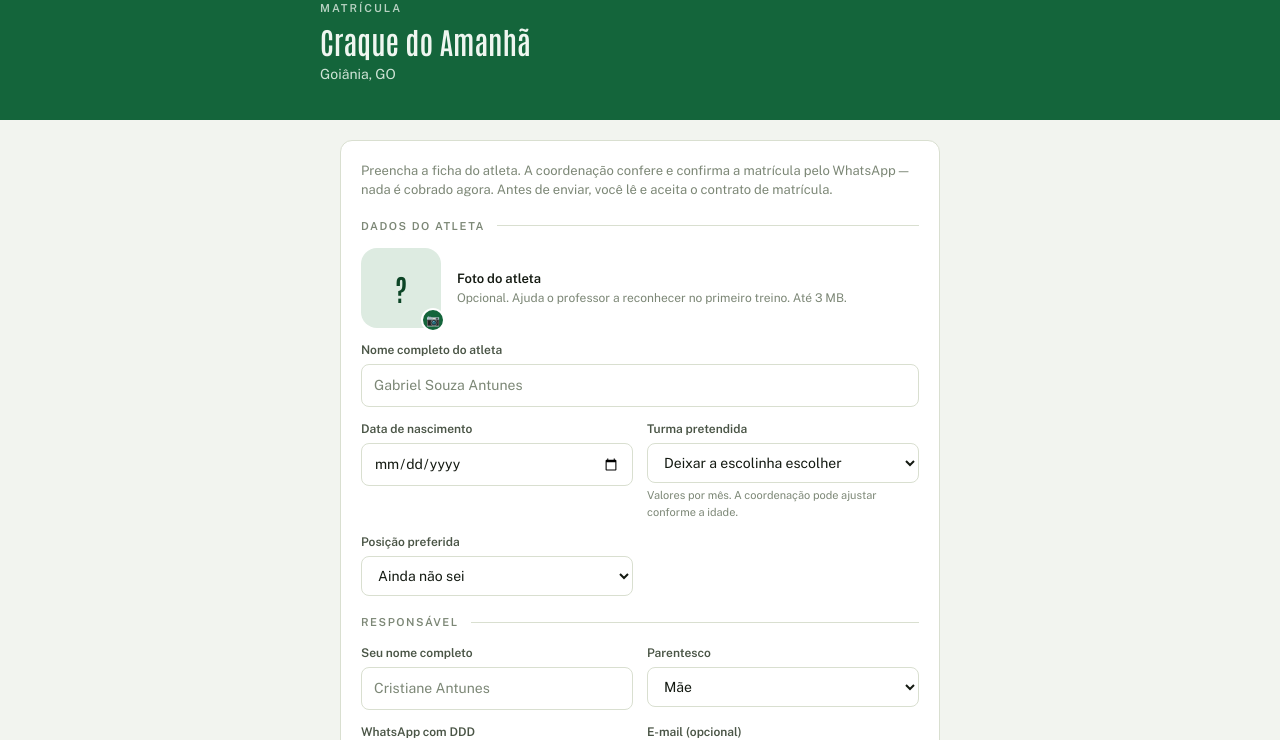
matrícula pública › com contrato, CPF inválido nem abre o texto
The width and height of the screenshot is (1280, 740).
Type "Gabriel Souza" into the field labelled "Nome completo do atleta". click: (640, 386)
box: [361,364,919,407]
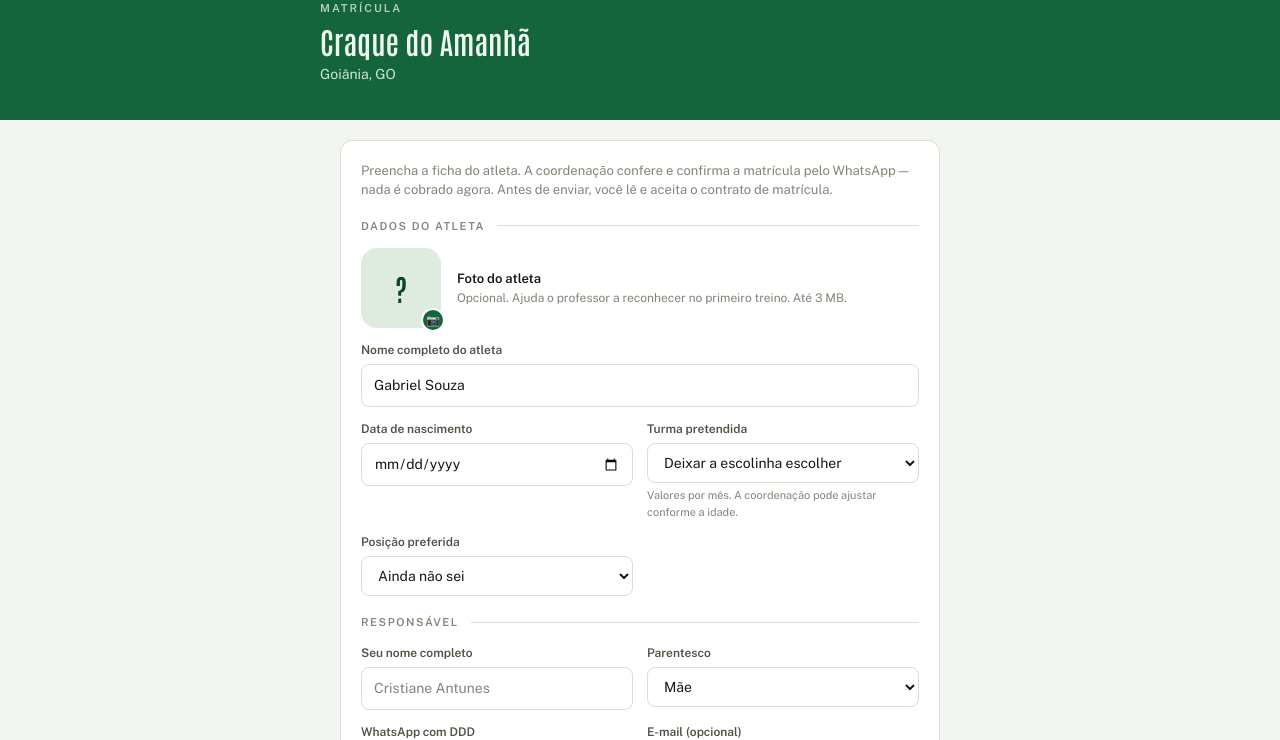
Type "Cristiane Souza" into the field labelled "Seu nome completo". click: (497, 688)
box: [361,666,633,710]
(page scrolled)
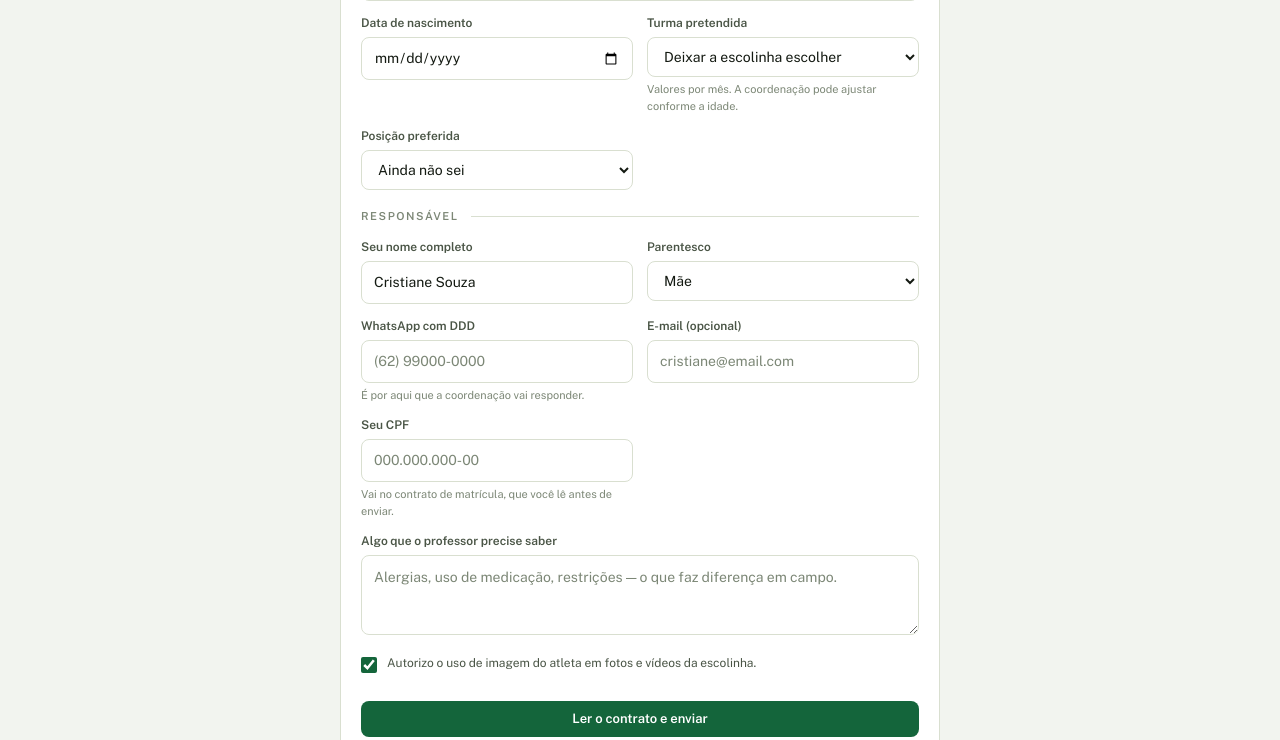
Type "62990001122" into the field labelled "WhatsApp com DDD É por aqui que a coordenação vai responder.". click: (497, 361)
box: [361,340,633,382]
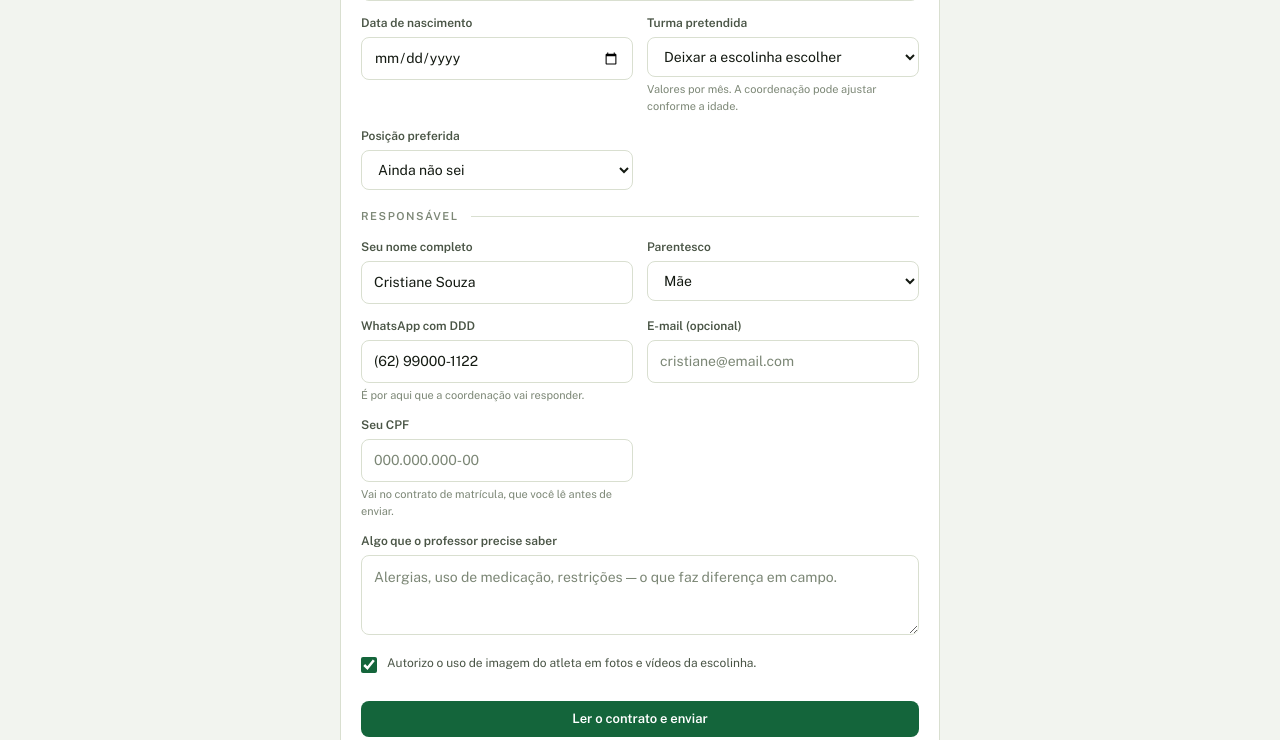
Type "111.111.111-11" into the field labelled "Seu CPF". click: (497, 460)
box: [361,439,633,482]
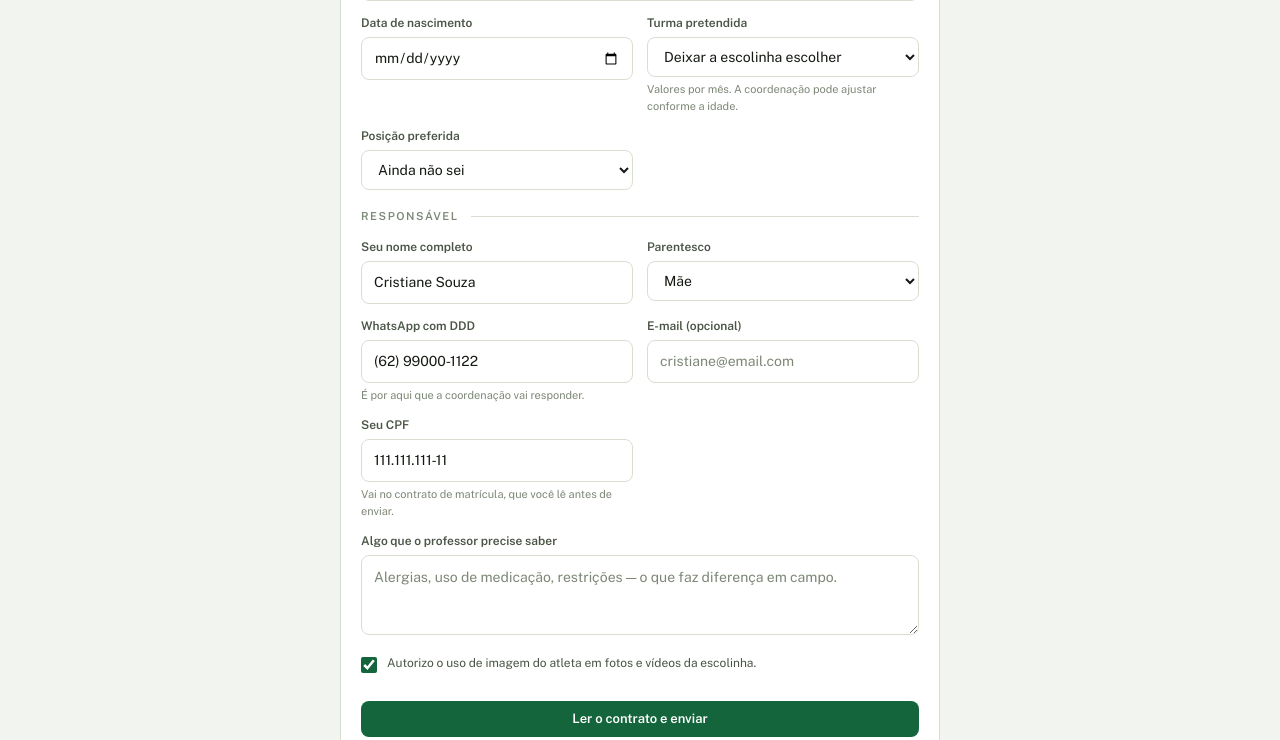
Click the button "Ler o contrato e enviar". click: (640, 719)
box: [361,701,919,737]
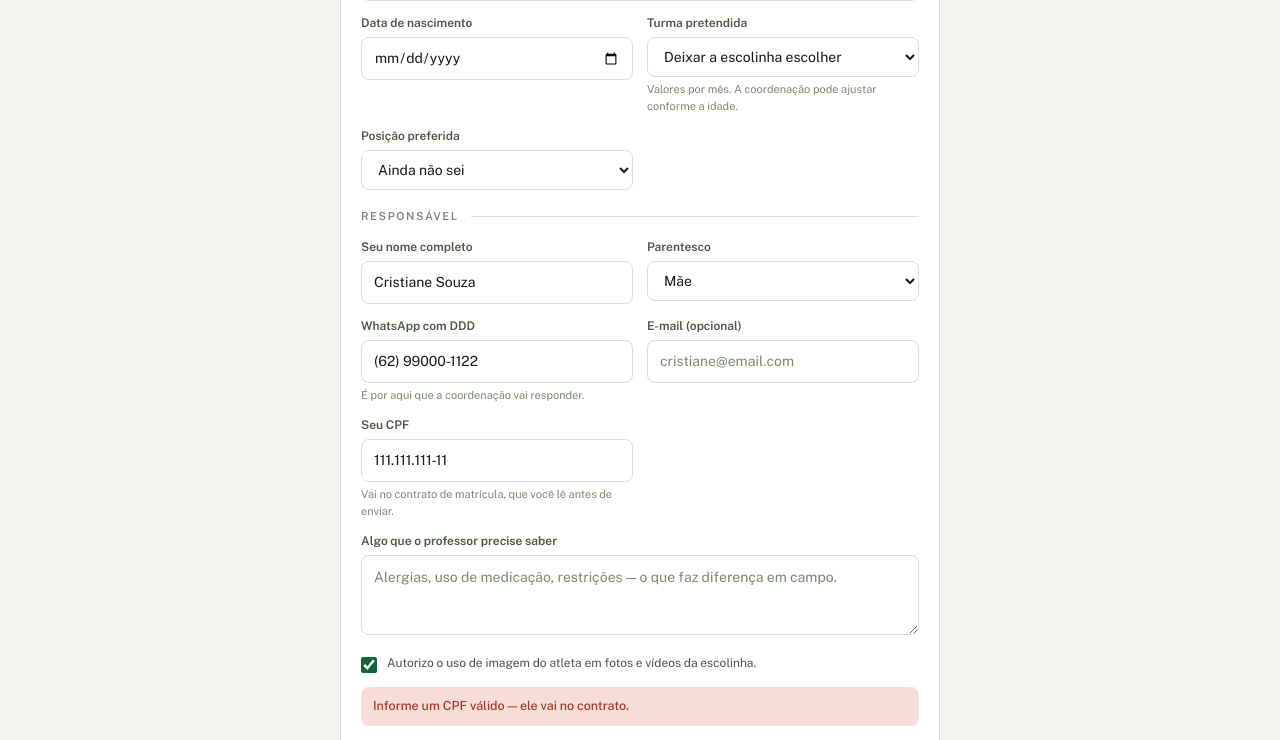
Now the text "Informe um CPF válido — ele vai no contrato." is shown, box [361,687,919,726]
